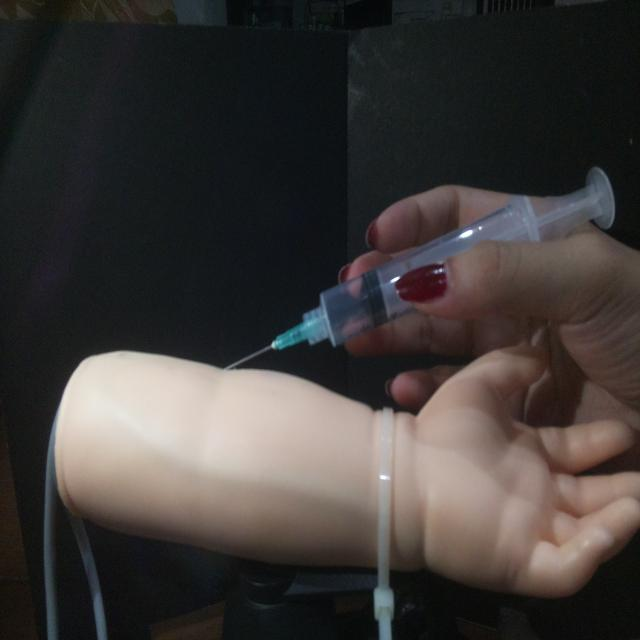21deg: (221, 161, 618, 373)
